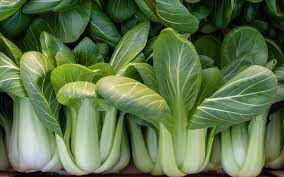Healthy-Pechay: (4, 2, 284, 175)
